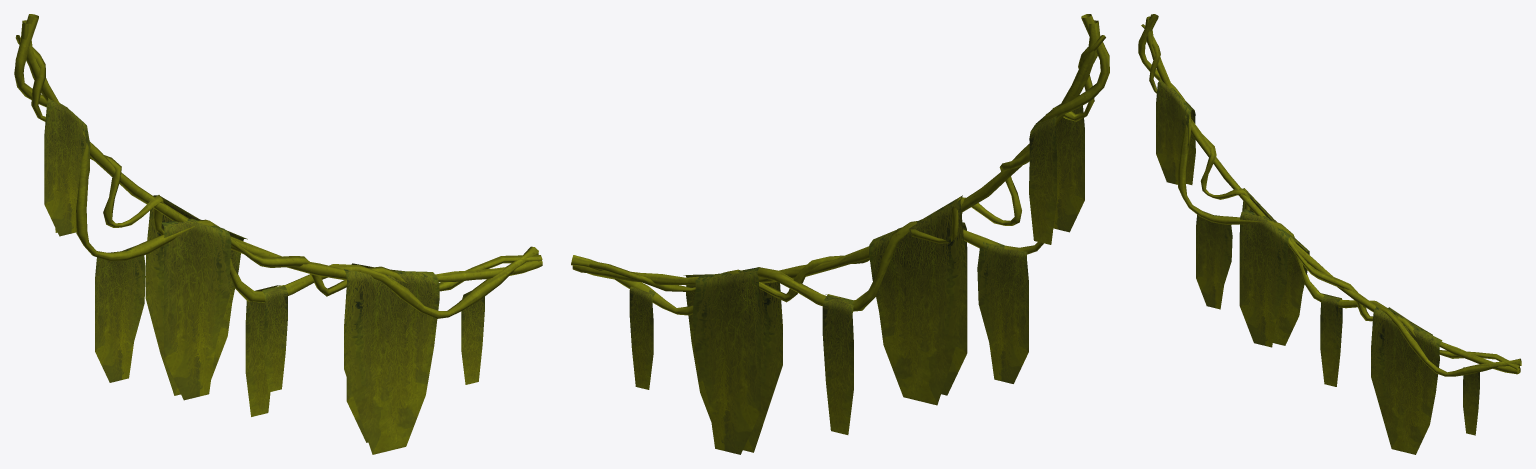
File: HangingVine2.fbx
3 renders of one model, left to right at view 1: azimuth 30°, elevation 25°; view 2: azimuth 150°, elevation 25°; view 3: azimuth 330°, elevation 25°, orthographic. The views are drawn at different scales.
Visible parts, largest first — view 1: HangingVine2; view 2: HangingVine2; view 3: HangingVine2.
Part boxes in pixels (<box>): HangingVine2: <box>14,14,542,454</box>; HangingVine2: <box>571,14,1109,454</box>; HangingVine2: <box>1138,14,1521,454</box>.
Size of the model in its own units: 1351 by 1267 by 76.81.
